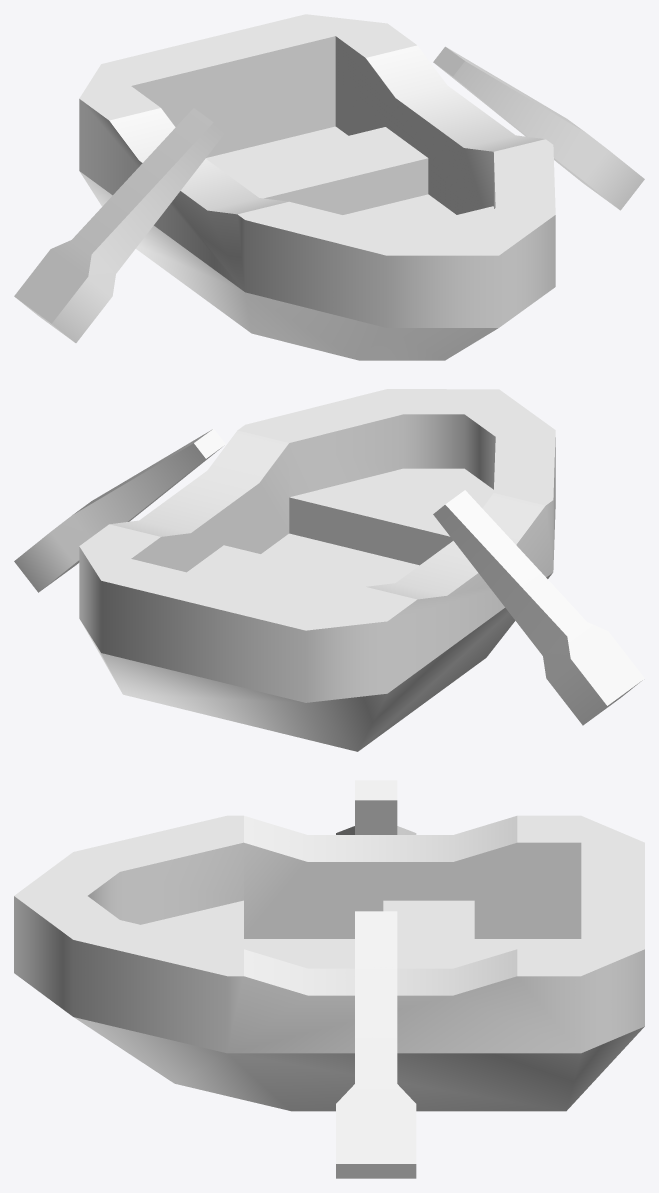
Rendered from boat-row-small.glb.
The picture shows the model from 3 angles, top to bottom: view 1: azimuth 30°, elevation 25°; view 2: azimuth 150°, elevation 25°; view 3: azimuth 270°, elevation 25°; orthographic projection. The views are drawn at different scales.
Visible parts, largest first — view 1: boat-row-small, paddles; view 2: boat-row-small, paddles; view 3: boat-row-small, paddles.
Part boxes in pixels (bbox=[...]): boat-row-small: bbox=[79, 14, 555, 360]; paddles: bbox=[14, 46, 644, 342]; boat-row-small: bbox=[79, 389, 555, 751]; paddles: bbox=[14, 428, 644, 725]; boat-row-small: bbox=[14, 815, 644, 1111]; paddles: bbox=[336, 780, 416, 1178].
Size of the model in its own units: 2.75 by 0.8477 by 2.37.
Materials: 1 (1 with a texture image).
